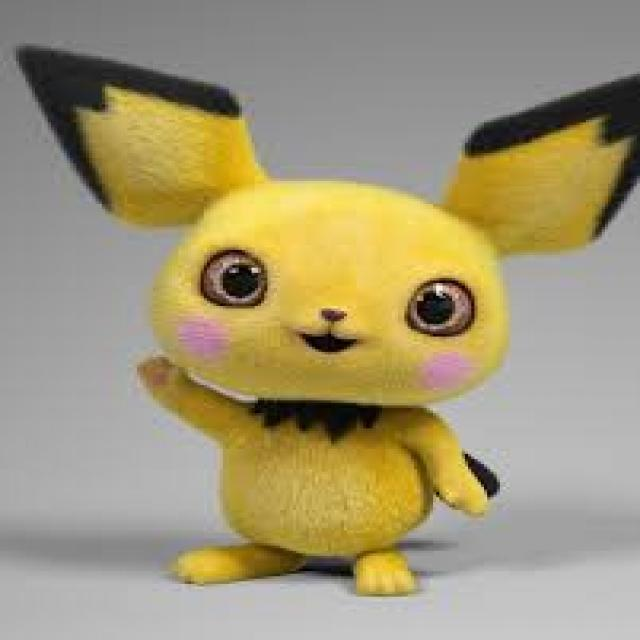pichu: (1, 30, 640, 607)
